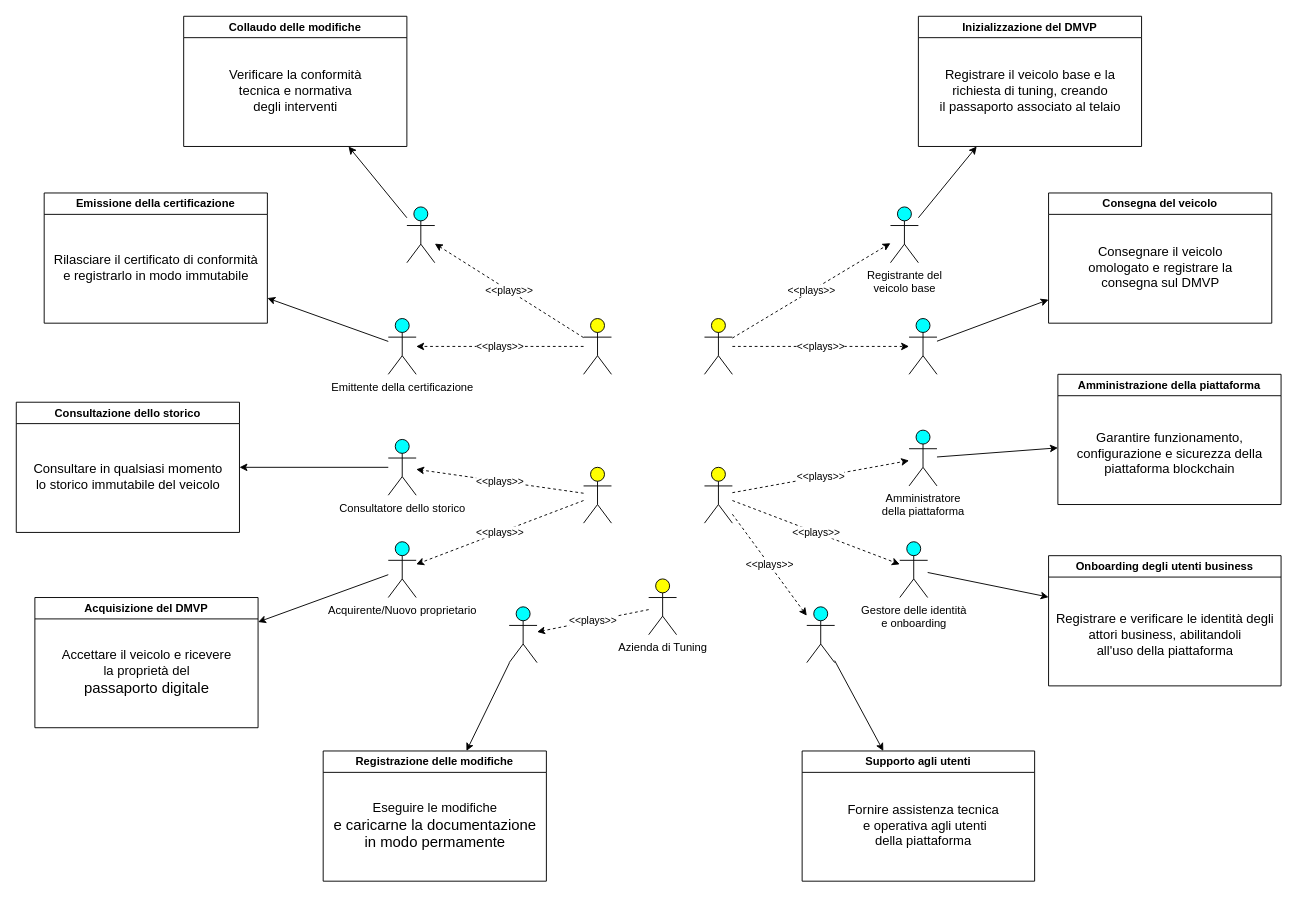
Image size: 1302x897. Some labels were removed from this diagram. Each missing label, with the centre of its shape:
"Assistente all'uso" belongs at point 820,634.
"Centro di Certificazione" belongs at point 597,346.
"Cliente Privato" belongs at point 597,494.
"Concessionaria" belongs at point 718,346.
"Esecutore della modifica" belongs at point 522,634.
"Intermediario" belongs at point 718,494.
"Ispettore/Collaudatore" belongs at point 420,234.
"Responsabile della consegna" belongs at point 922,346.
